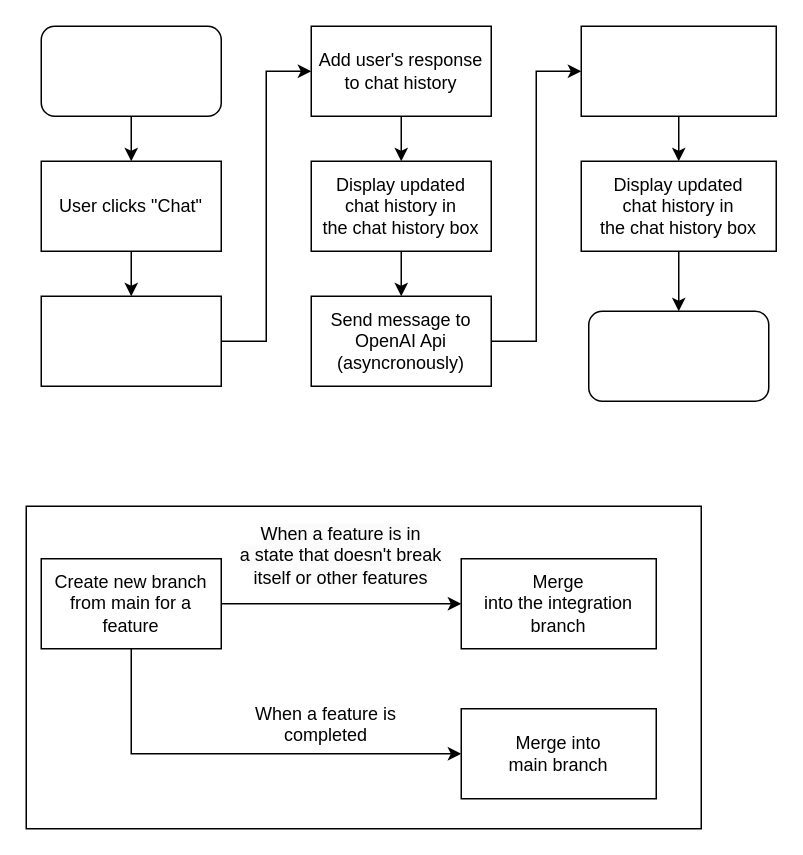
The diagram is 803 pixels wide and 855 high, and some of its shapes have lost their labels. The shapes that lost their labels are listed below. From the top down, each one's centre as x and y in pixels, then its label:
At (130,70): "User types prompt into chat bar".
At (678,70): "Add OpenAI response (the enemy) to the chat history".
At (130,340): "Disable chat button".
At (678,355): "Enable chat button".
